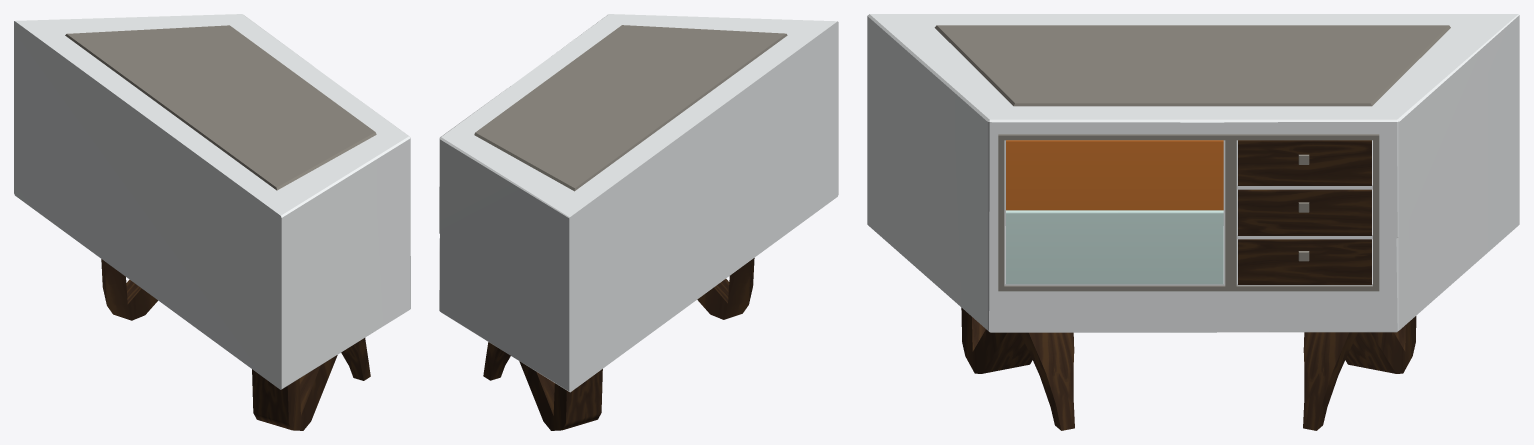
Rendered from Cabinet01.fbx.
3 views of the same model, side by side, from view 1: azimuth 30°, elevation 25°; view 2: azimuth 150°, elevation 25°; view 3: azimuth 270°, elevation 25° (orthographic). The views are drawn at different scales.
Visible parts, largest first — view 1: Cabinet01; view 2: Cabinet01; view 3: Cabinet01, Cabinet01_Panel, Cabinet01_Drawer02, Cabinet01_Drawer01, Cabinet01_Drawer03.
Part boxes in pixels (left/top/right/bottom): Cabinet01: left=14, top=14, right=410, bottom=430; Cabinet01: left=439, top=14, right=838, bottom=430; Cabinet01: left=867, top=14, right=1519, bottom=430; Cabinet01_Panel: left=1006, top=140, right=1223, bottom=284; Cabinet01_Drawer02: left=1238, top=189, right=1371, bottom=235; Cabinet01_Drawer01: left=1238, top=140, right=1371, bottom=185; Cabinet01_Drawer03: left=1238, top=239, right=1371, bottom=284.
Bounding box in the file's own units: 9.86 × 13.48 × 24.66.
